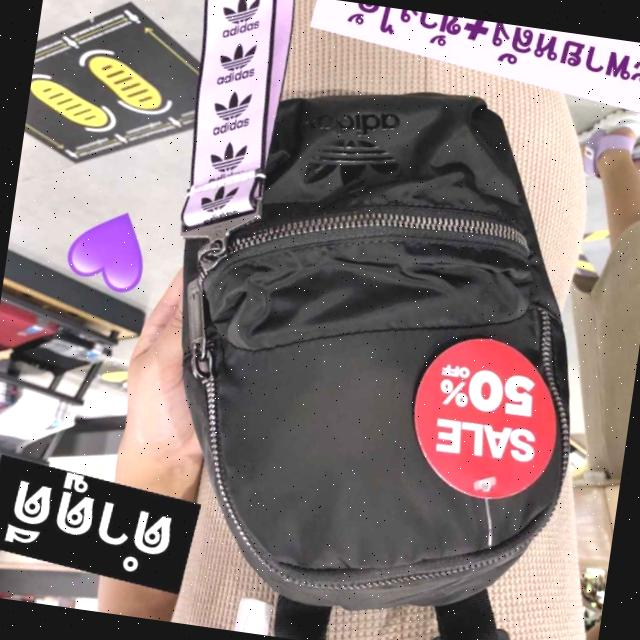Handbag: (136, 56, 619, 636)
